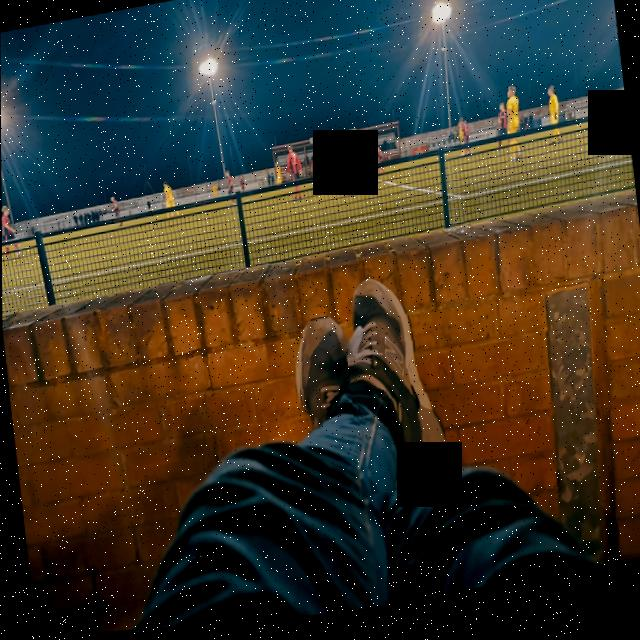shoe: (338, 274, 449, 503), (289, 318, 353, 438)
